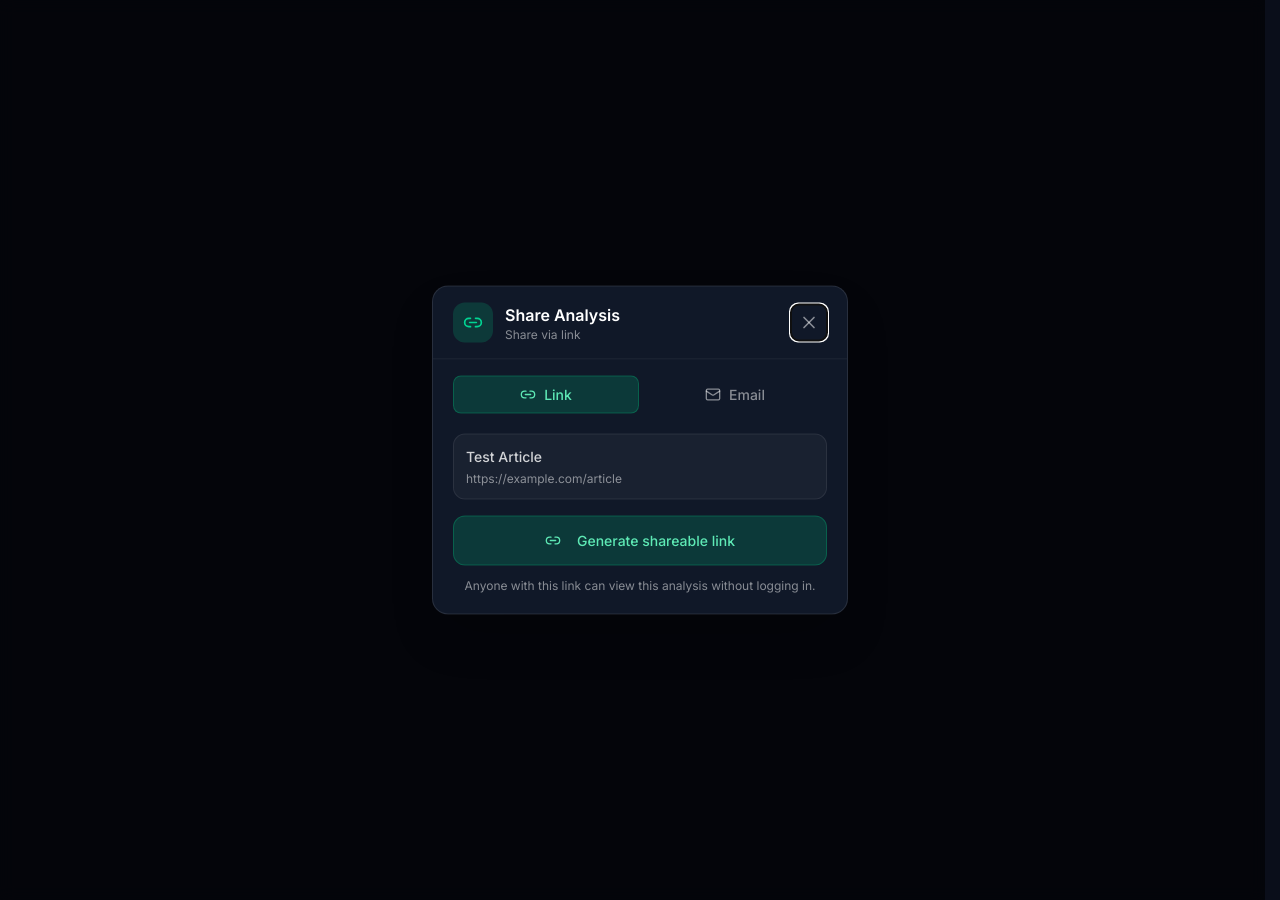
ShareModal › switches to email tab on click
The image size is (1280, 900).
Click the tab "Email" at (735, 394), box left=643, top=376, right=827, bottom=414
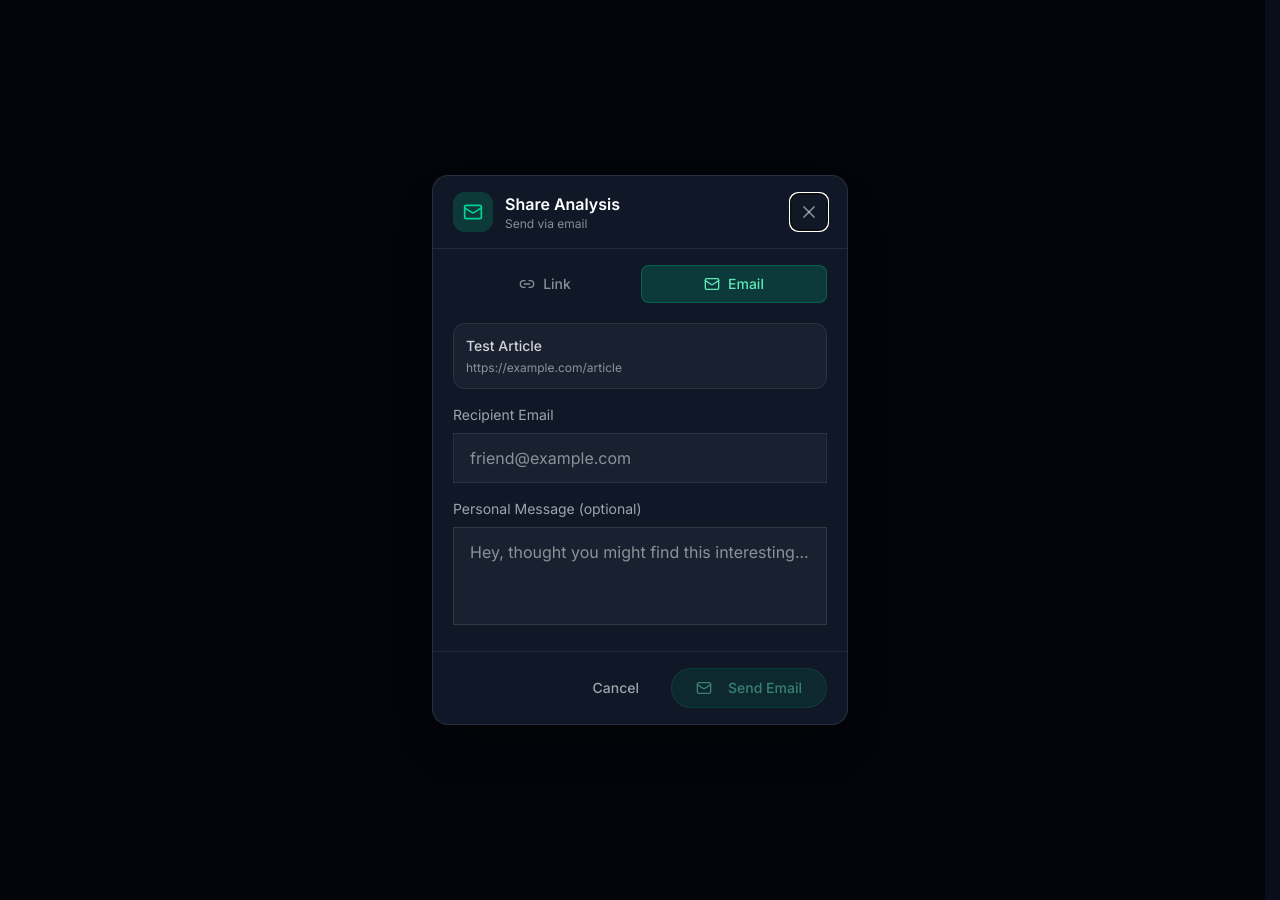
Check: the field labelled "Recipient Email" is shown, box left=453, top=433, right=827, bottom=483
